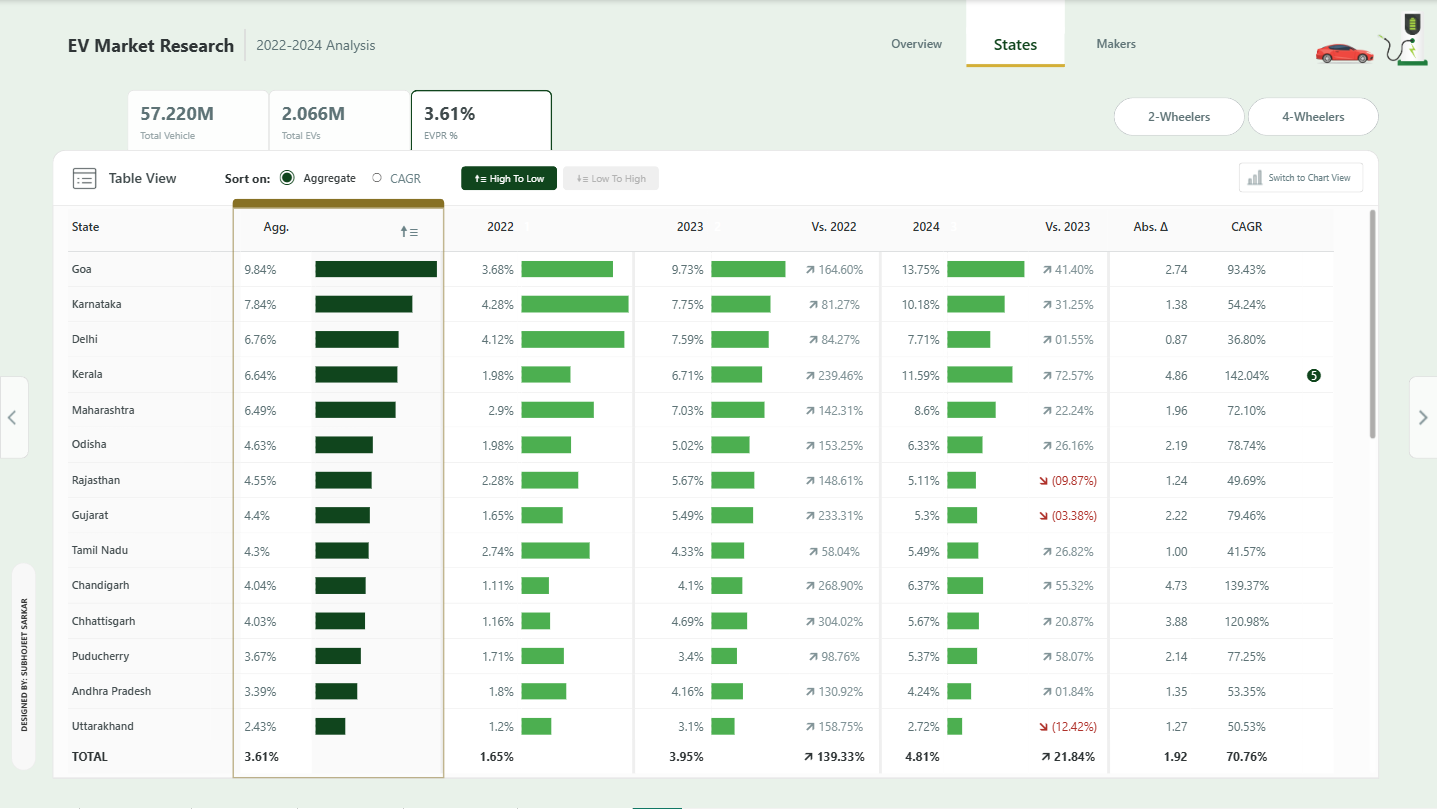

What the dashboard file says about the page in this screenshot:
{"tool":"powerbi","page":{"name":"States: 1","canvas":[1920,1080],"ordinal":2},"visuals":[{"type":"advancedSlicerVisual","fields":{"Values":["Param 0201: Total Sales/EV Sales/EVPR%.Total Sales/EV Sales/EVPR%"],"Label":["KPIs.Lbl Switch 1"]},"box":[171,116,568,88],"z":0},{"type":"shape","box":[70,200,1772,840],"z":1000},{"type":"image","box":[1753.3,25,86.8,93.5],"z":2000},{"type":"image","box":[1828.2,0,91.8,100.2],"z":3000},{"type":"actionButton","box":[1881.2,502.5,38.8,110],"z":4000},{"type":"actionButton","box":[1158.8,33.8,131.2,48.8],"z":5000},{"type":"actionButton","box":[1290,36.3,131.4,48.6],"z":6000},{"type":"shape","box":[1290,75,131.7,25],"z":7000},{"type":"shape","box":[1290,0,131.7,45],"z":8000},{"type":"actionButton","box":[1425.6,33.3,130,48.9],"z":9000},{"type":"shape","box":[300.2,212.6,71.4,50],"z":10000},{"type":"shape","box":[145.7,217.6,115.7,40],"z":11000},{"type":"image","box":[90,209.8,45.7,55.7],"z":12000},{"type":"pivotTable","fields":{"Values":["KPIs.0201: Dynamic_Rank NEW","KPIs.Lbl Switch 1","KPIs.Lbl Switch Bar","KPIs.Blank Column","KPIs.2022","KPIs.2022 Bar","KPIs.Blank Column","KPIs.2023","KPIs.2023 Bar","KPIs.Growth 23-22","KPIs.Blank Column","KPIs.2024"],"Rows":["electric_vehicle_sales_by_state.State"]},"box":[70,274.3,1772,765.7],"z":13000},{"type":"shape","box":[70.4,274.1,1772.2,61.1],"z":14000},{"type":"actionButton","box":[0,503.3,38.3,110],"z":15000},{"type":"shape","box":[310.2,278,283.1,762.7],"z":16000},{"type":"shape","box":[310.2,266.1,283.1,11.9],"z":17000},{"type":"actionButton","box":[1655,217.6,166.7,40],"z":18000},{"type":"shape","box":[522,285,48,45],"z":19000},{"type":"shape","box":[1760,285,48.3,45],"z":20000},{"type":"shape","box":[1601.4,270,220,12],"z":21000},{"type":"shape","box":[1601.4,278.6,220,761.4],"z":22000},{"type":"advancedSlicerVisual","fields":{"Values":["0201_SORT Category.SORT_Category"]},"box":[372.5,219.8,241.4,35.7],"z":23000},{"type":"advancedSlicerVisual","fields":{"Values":["0201_SORT Order.SORT_Order"]},"box":[615.4,221.6,264,32],"z":24000},{"type":"shape","box":[90.5,41.6,229.8,36.2],"z":25000},{"type":"shape","box":[320,38.5,13.3,43.3],"z":26000},{"type":"shape","box":[341.6,41.9,268.3,36.7],"z":27000},{"type":"actionButton","box":[15,752,33,278],"z":28000},{"type":"advancedSlicerVisual","fields":{"Values":["Dim_Vehicle_type.Description"]},"box":[1488.3,130,355,51.7],"z":29000}]}

Visuals, with their boxes in screenshot pixels (x1, y1, x2, y2), scaled from the page's 1920x1080 canvas onto the 1437x809 screenshot:
advancedSlicerVisual - Param 0201: Total Sales/EV Sales/EVPR%.Total Sales/EV Sales/EVPR% x KPIs.Lbl Switch 1: x1=128, y1=87, x2=553, y2=153
shape: x1=52, y1=150, x2=1379, y2=779
image: x1=1312, y1=19, x2=1377, y2=89
image: x1=1368, y1=0, x2=1436, y2=75
actionButton: x1=1408, y1=376, x2=1436, y2=459
actionButton: x1=867, y1=25, x2=965, y2=62
actionButton: x1=965, y1=27, x2=1064, y2=64
shape: x1=965, y1=56, x2=1064, y2=75
shape: x1=965, y1=0, x2=1064, y2=34
actionButton: x1=1067, y1=25, x2=1164, y2=62
shape: x1=225, y1=159, x2=278, y2=197
shape: x1=109, y1=163, x2=196, y2=193
image: x1=67, y1=157, x2=102, y2=199
pivotTable - KPIs.0201: Dynamic_Rank NEW x KPIs.Lbl Switch 1: x1=52, y1=205, x2=1379, y2=779
shape: x1=53, y1=205, x2=1379, y2=251
actionButton: x1=0, y1=377, x2=29, y2=459
shape: x1=232, y1=208, x2=444, y2=780
shape: x1=232, y1=199, x2=444, y2=208
actionButton: x1=1239, y1=163, x2=1363, y2=193
shape: x1=391, y1=213, x2=427, y2=247
shape: x1=1317, y1=213, x2=1353, y2=247
shape: x1=1199, y1=202, x2=1363, y2=211
shape: x1=1199, y1=209, x2=1363, y2=779
advancedSlicerVisual - 0201_SORT Category.SORT_Category: x1=279, y1=165, x2=459, y2=191
advancedSlicerVisual - 0201_SORT Order.SORT_Order: x1=461, y1=166, x2=658, y2=190
shape: x1=68, y1=31, x2=240, y2=58
shape: x1=240, y1=29, x2=249, y2=61
shape: x1=256, y1=31, x2=456, y2=59
actionButton: x1=11, y1=563, x2=36, y2=772
advancedSlicerVisual - Dim_Vehicle_type.Description: x1=1114, y1=97, x2=1380, y2=136
